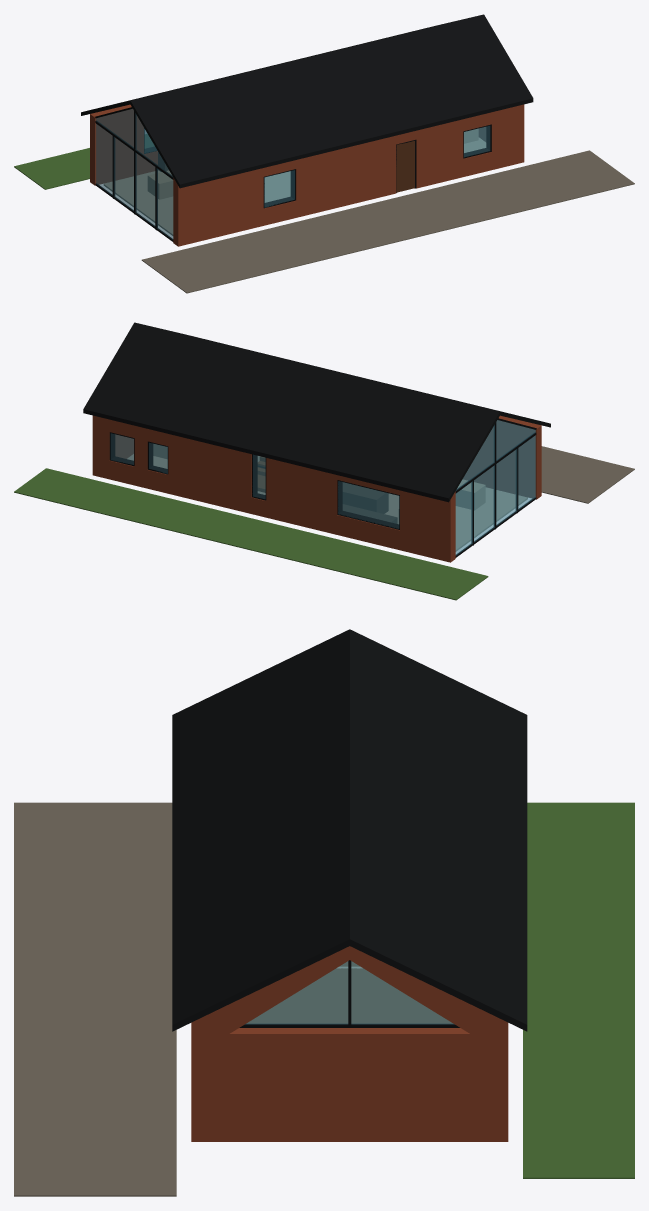
File: barn.obj
The picture shows the model from 3 angles, top to bottom: view 1: azimuth 30°, elevation 25°; view 2: azimuth 150°, elevation 25°; view 3: azimuth 270°, elevation 25°; orthographic projection. The views are drawn at different scales.
Parts seen in each view (by area): view 1: roof_courtyard_slope, courtyard_cobbles_context, front_glass_gable, courtyard_wall_pier_1, courtyard_wall_pier_0, tractor_lane_wall_pier_0, courtyard_wall_pier_2, ground_floor_slab, tractor_lane_context, courtyard_wall_pier_end, living_courtyard_window, courtyard_entry (+5 smaller); view 2: roof_lane_slope, tractor_lane_context, front_glass_gable, tractor_lane_wall_pier_2, tractor_lane_wall_pier_1, courtyard_wall_pier_0, tractor_lane_wall_pier_0, courtyard_cobbles_context, ground_floor_slab, kitchen_window, tractor_lane_wall_kitchen_window_sill, tractor_lane_wall_pier_end (+11 smaller); view 3: courtyard_cobbles_context, roof_lane_slope, roof_courtyard_slope, tractor_lane_context, rear_gable_ground_solid, rear_loft_window, mezzanine_rear_strip, rear_gable_left_cheek, rear_gable_right_cheek, courtyard_wall_pier_end, tractor_lane_wall_pier_end, rear_loft_base_frame.
Part boxes in pixels (x1,y1,x2,y2): roof_courtyard_slope: (130,14,533,188); courtyard_cobbles_context: (141,150,634,293); front_glass_gable: (96,109,173,239); courtyard_wall_pier_1: (296,135,396,217); courtyard_wall_pier_0: (173,168,263,246); tractor_lane_wall_pier_0: (90,104,143,185); courtyard_wall_pier_2: (416,119,463,188); ground_floor_slab: (104,138,485,235); tractor_lane_context: (14,134,153,189); courtyard_wall_pier_end: (491,104,524,169); living_courtyard_window: (264,170,294,207); courtyard_entry: (396,141,414,192); roof_lane_slope: (83,322,499,502); tractor_lane_context: (14,468,488,600); front_glass_gable: (455,420,535,555); tractor_lane_wall_pier_2: (168,434,251,513); tractor_lane_wall_pier_1: (266,458,337,534); courtyard_wall_pier_0: (463,415,541,499); tractor_lane_wall_pier_0: (400,490,455,562); courtyard_cobbles_context: (541,446,634,503); ground_floor_slab: (127,454,527,551); kitchen_window: (338,481,399,528); tractor_lane_wall_kitchen_window_sill: (337,515,399,550); tractor_lane_wall_pier_end: (92,416,109,479); courtyard_cobbles_context: (14,802,176,1196); roof_lane_slope: (350,629,527,1031); roof_courtyard_slope: (172,629,349,1031); tractor_lane_context: (523,802,634,1178); rear_gable_ground_solid: (191,1028,508,1141); rear_loft_window: (245,961,454,1024); mezzanine_rear_strip: (247,961,452,1023); rear_gable_left_cheek: (350,946,508,1033); rear_gable_right_cheek: (191,946,349,1033); courtyard_wall_pier_end: (191,1019,209,1141); tractor_lane_wall_pier_end: (490,1019,508,1141); rear_loft_base_frame: (239,1024,459,1027).
Bounding box in the file's own units: 22 × 5.46 × 14.7.
